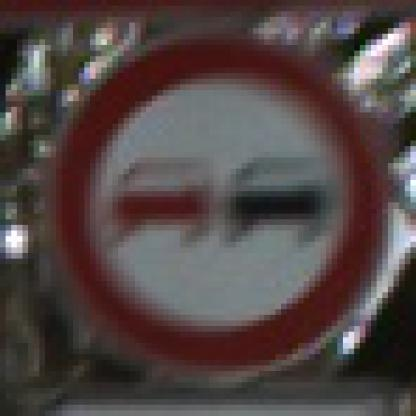No Overtaking: (35, 35, 378, 383)
